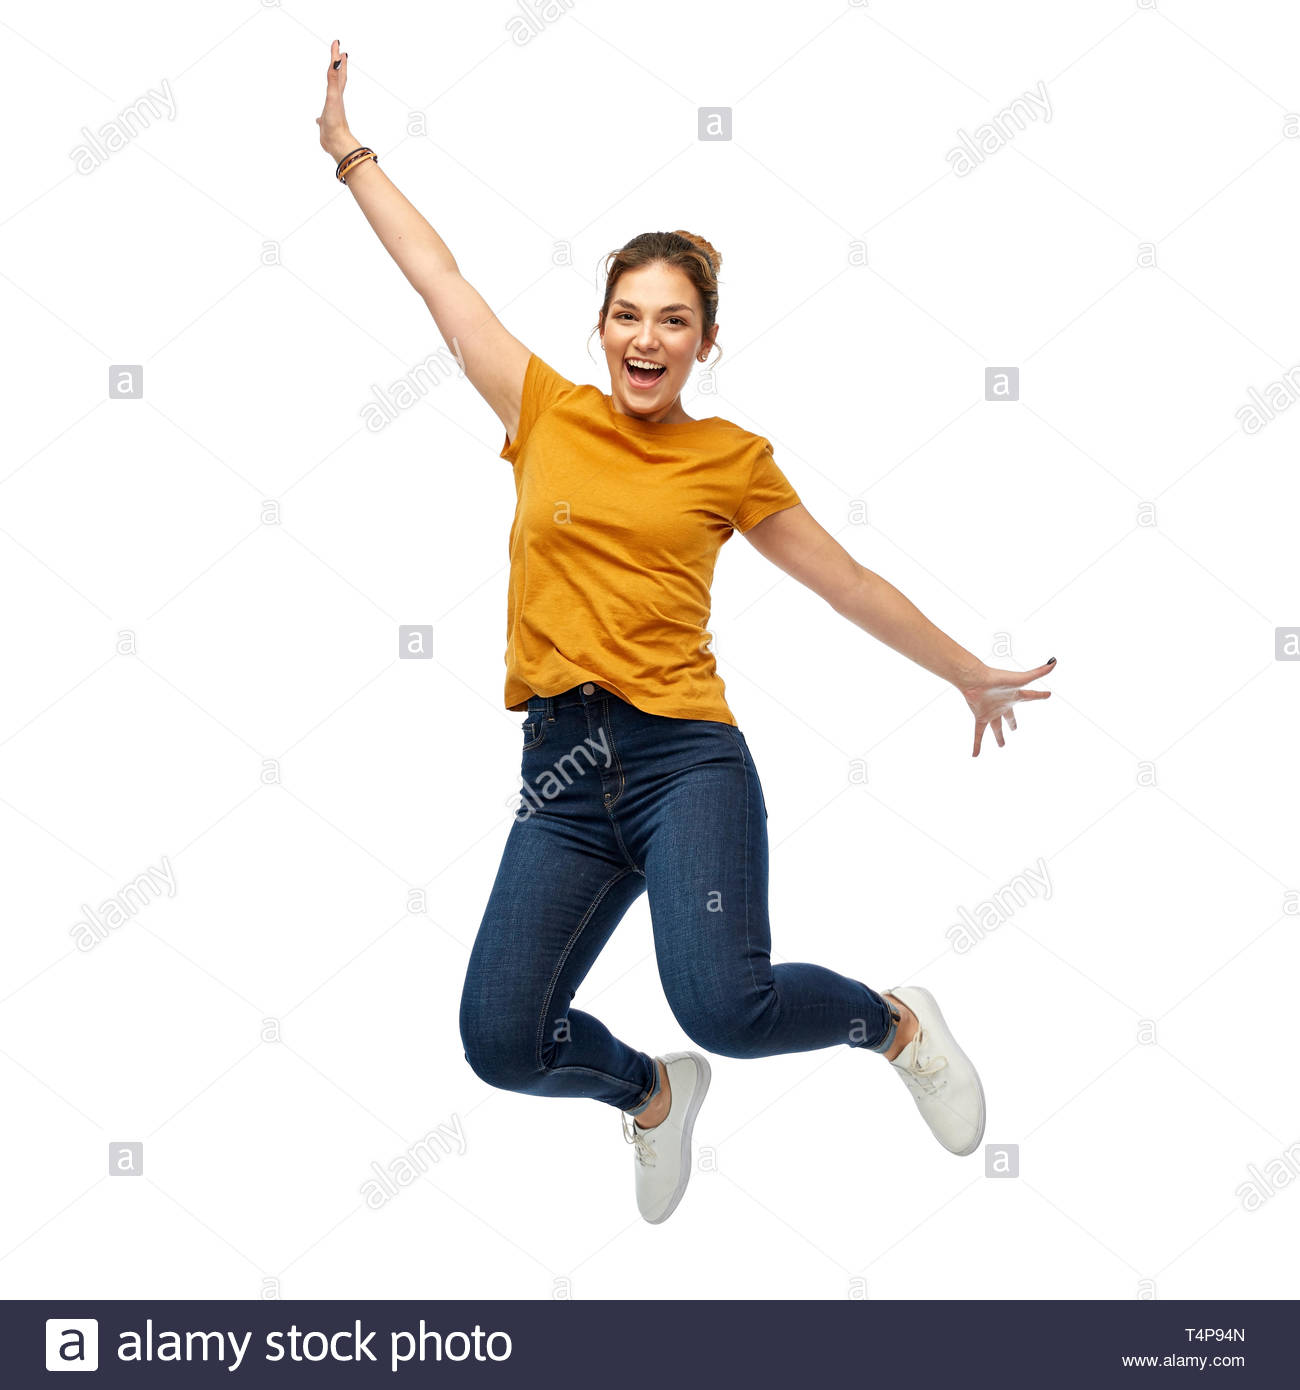Person: (298, 28, 1069, 1234)
